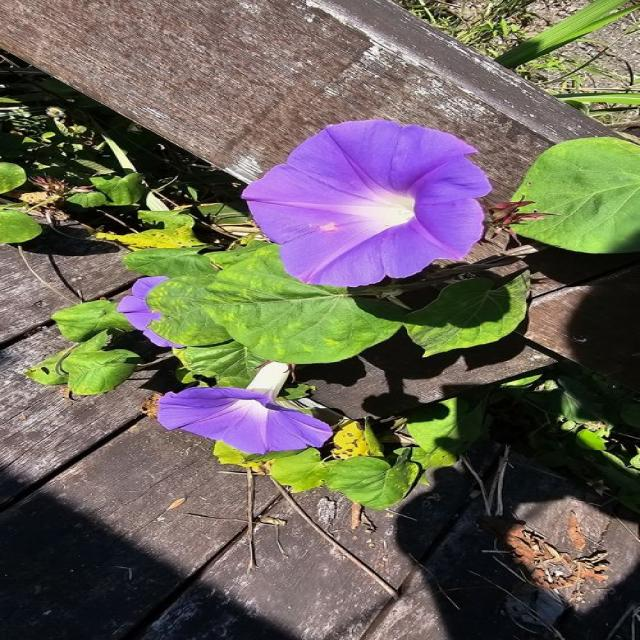ipomoea: (235, 117, 496, 289), (150, 383, 336, 458), (112, 273, 190, 351)
